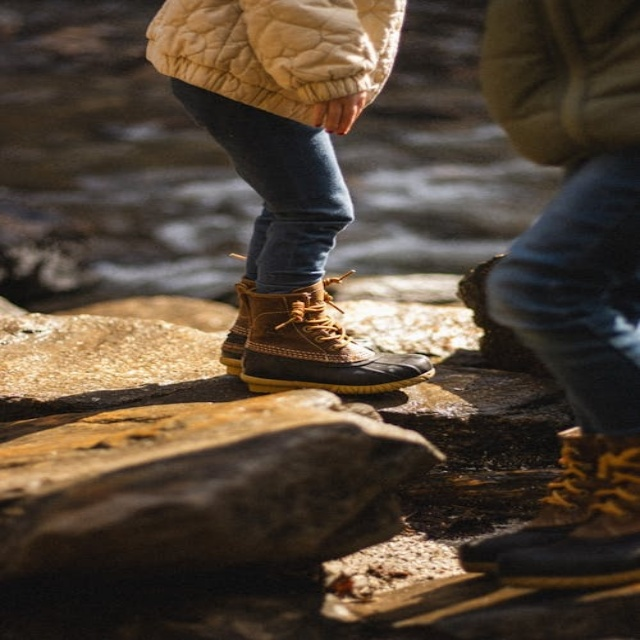Sin_guantes: (311, 90, 373, 136)
